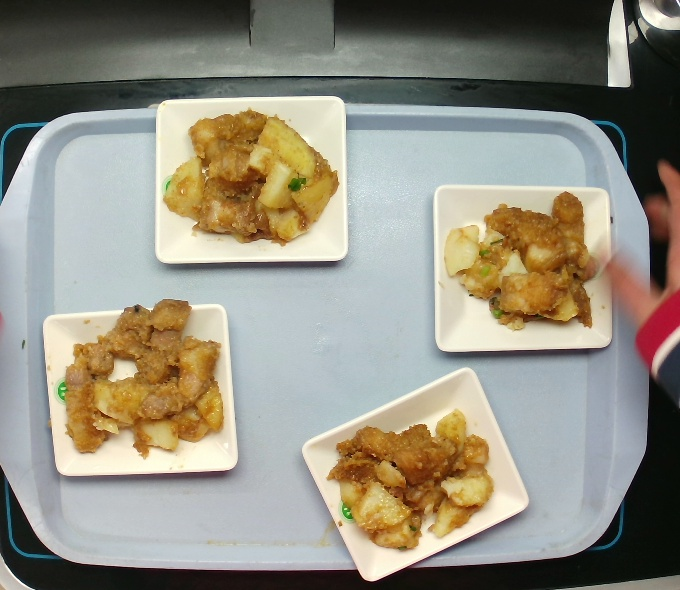wcq-FenZhenRou: (58, 291, 224, 463), (324, 402, 495, 557), (446, 179, 607, 342), (168, 93, 333, 252)
